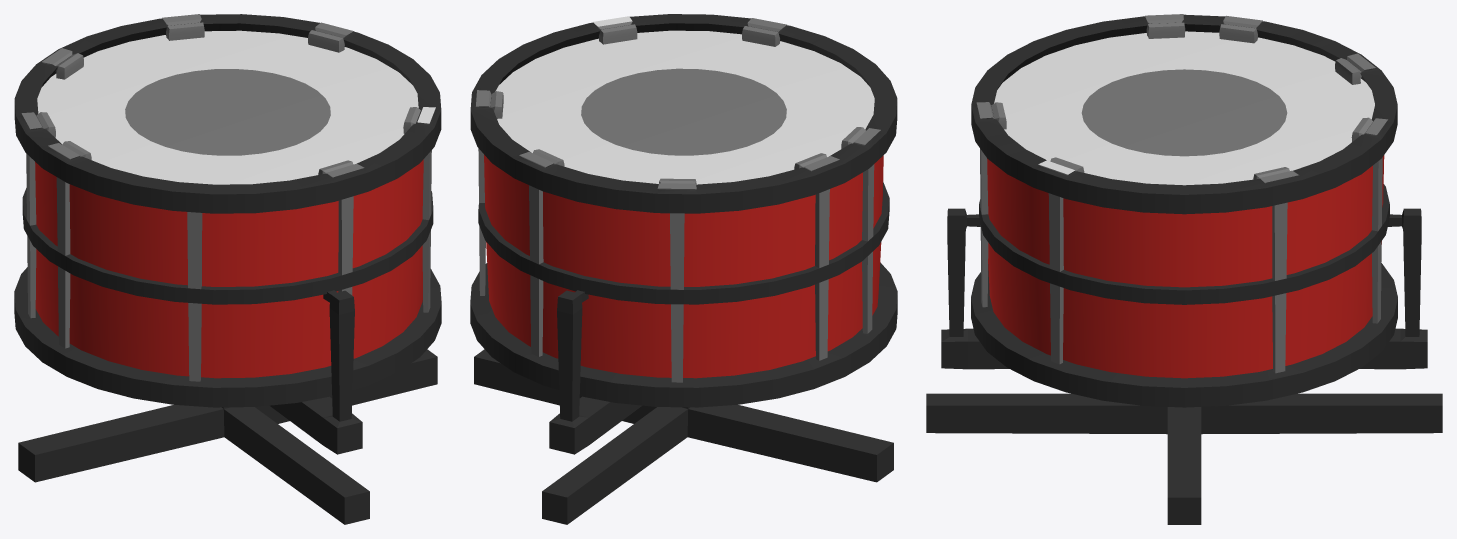
File: Drum_1.fbx
The picture shows the model from 3 angles, left to right: view 1: azimuth 30°, elevation 25°; view 2: azimuth 150°, elevation 25°; view 3: azimuth 270°, elevation 25°; orthographic projection.
Visible parts, largest first — view 1: Circle.001; view 2: Circle.001; view 3: Circle.001.
Part boxes in pixels (box(x1,y1,x2,y2)): Circle.001: box(14, 14, 441, 524); Circle.001: box(470, 14, 897, 524); Circle.001: box(926, 14, 1442, 524).
Bounding box in the file's own units: 238 × 185 × 265.
